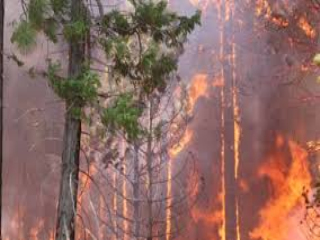fire: (244, 131, 316, 232), (167, 72, 222, 154)
